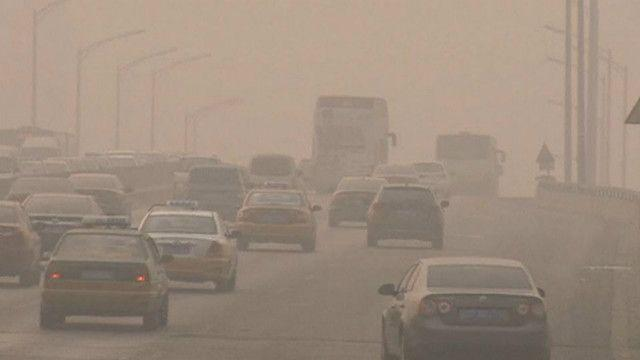bus: (313, 95, 397, 186), (436, 131, 506, 196), (16, 126, 79, 176)
car: (376, 257, 550, 360), (40, 214, 174, 331), (129, 200, 241, 291), (18, 192, 109, 262), (234, 181, 322, 252), (363, 182, 450, 249), (3, 178, 77, 236), (1, 201, 44, 287), (184, 165, 249, 221), (63, 173, 135, 221), (328, 175, 393, 227), (247, 152, 303, 201), (371, 163, 421, 207), (173, 155, 224, 190), (408, 162, 450, 201), (100, 154, 140, 180), (297, 158, 329, 186)
